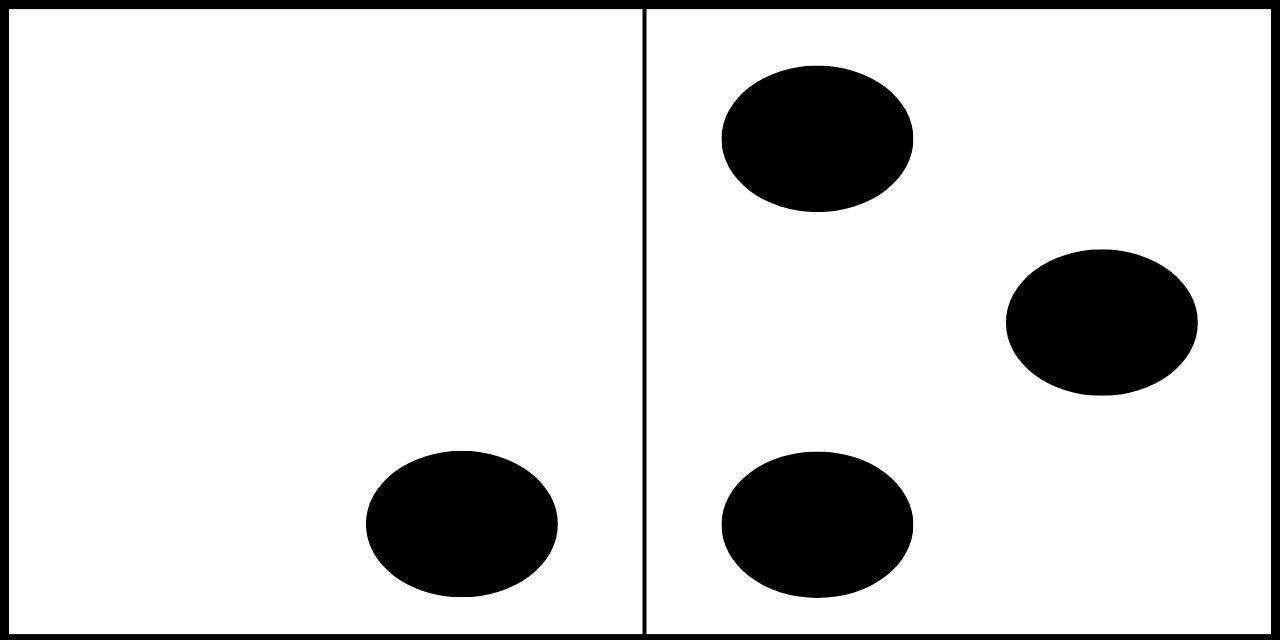O: (722, 65, 1197, 600)
capital: (152, 70, 561, 597)
